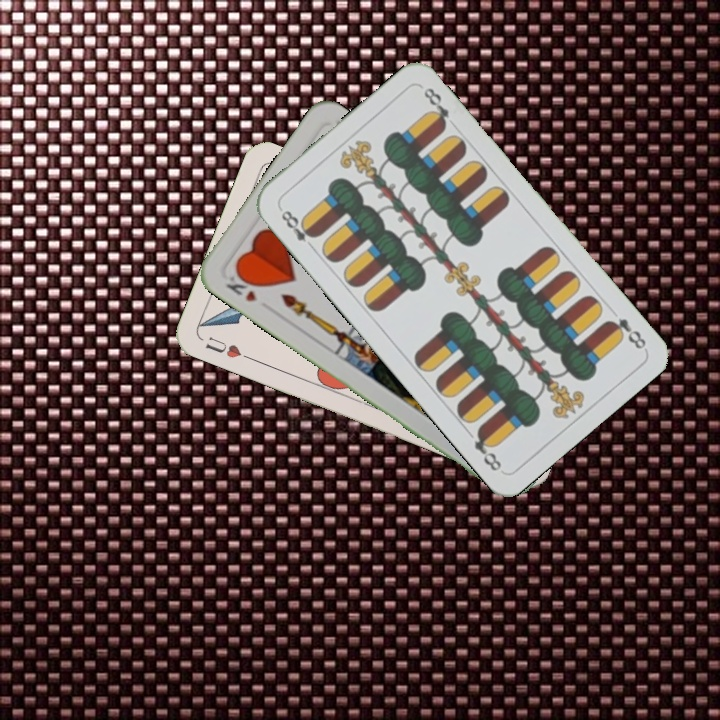E8: (275, 203, 320, 253), (602, 314, 649, 352)
HK: (221, 267, 262, 305)
HU: (201, 332, 255, 363)
